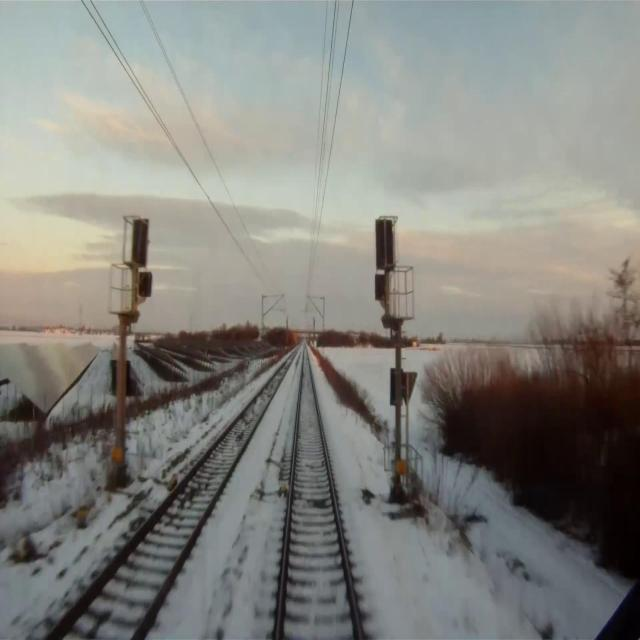rail-track: (50, 354, 292, 639), (280, 349, 357, 639)
